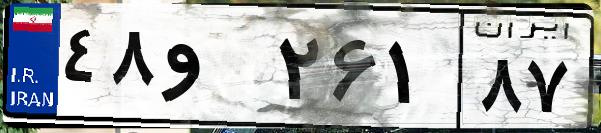1: (385, 28, 445, 110)
2: (270, 28, 330, 110)
4: (57, 26, 110, 100)
6: (330, 28, 385, 110)
7: (525, 38, 570, 115)
8: (475, 38, 525, 113), (110, 28, 158, 98)
و: (158, 20, 270, 120)
